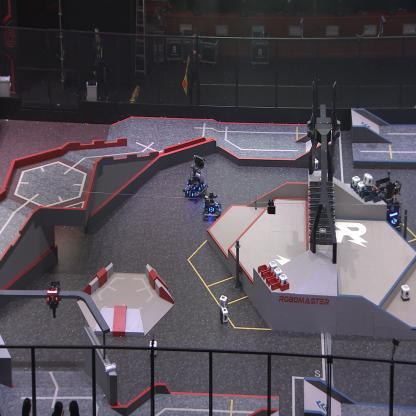car: (373, 177, 402, 231), (183, 154, 207, 200), (202, 190, 221, 221)
